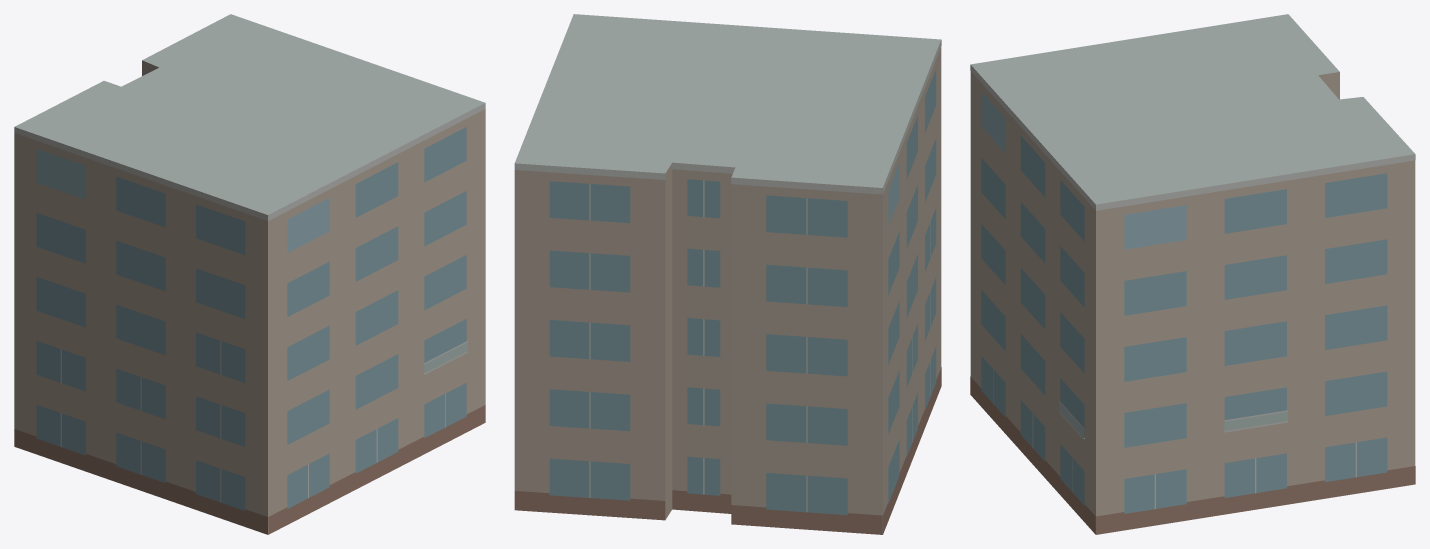
File: survey-upis-32838965.glb
3 renders of one model, left to right at view 1: azimuth 30°, elevation 25°; view 2: azimuth 150°, elevation 25°; view 3: azimuth 270°, elevation 25°, orthographic. The views are drawn at different scales.
Parts seen in each view (by area): view 1: survey-upis-32838965.tmp; view 2: survey-upis-32838965.tmp; view 3: survey-upis-32838965.tmp.
Boxes of the visible parts, x1,y1,x2,y2 form: survey-upis-32838965.tmp: (14, 14, 485, 534); survey-upis-32838965.tmp: (514, 14, 941, 534); survey-upis-32838965.tmp: (970, 14, 1415, 534).
Bounding box in the file's own units: 16.1 × 13 × 15.89.
